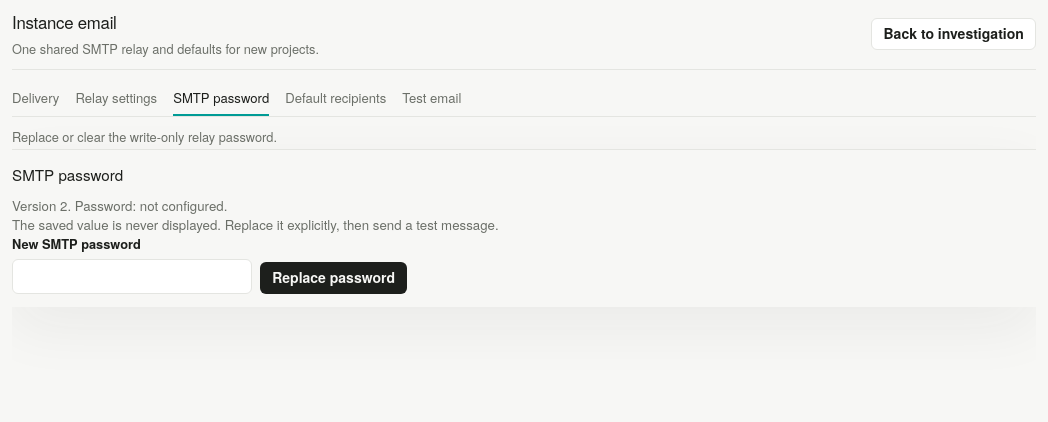
Test case: email and maintenance administration › replaces a password explicitly and reports test SMTP acceptance without revealing the secret
Check: the heading "SMTP password" is shown, box [12,164,123,185]
Check: the text "Password: not configured." is shown, box [12,196,227,215]
Step 1. Type "private-smtp-password" into the password field labelled "New SMTP password" → [132, 276], box [12,259,252,294]
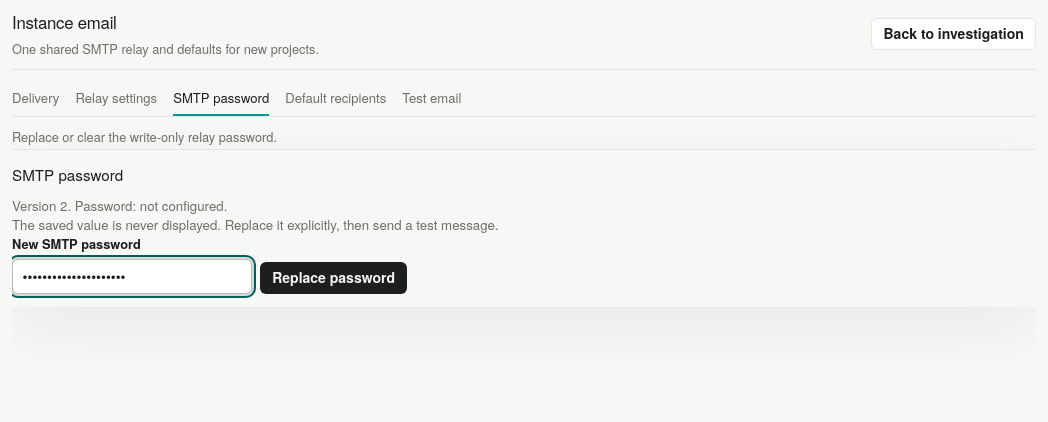
Step 2. Click the button "Replace password" → [334, 278], box [260,262,407,294]
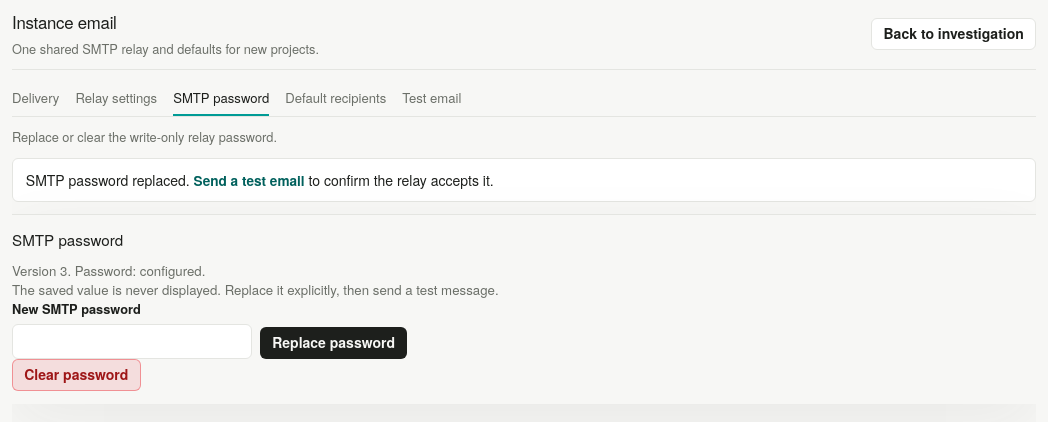
Check: the password field labelled "New SMTP password" is empty, box [12,324,252,359]
Check: the text "Password: configured." is shown, box [12,260,205,280]
Check: the text "SMTP password replaced. Send a test email to confirm the relay accepts it." is shown, box [12,158,1036,202]
Step 3. Click the link "Send a test email" → [249, 180], box [194,171,305,190]
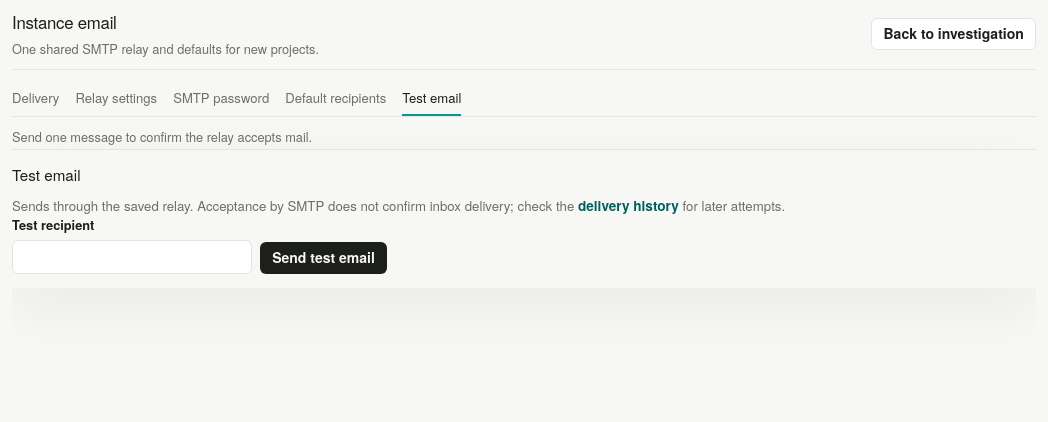
Check: the heading "Test email" is shown, box [12,164,80,185]
Check: the text "SMTP password replaced." is gone
Step 4. Type "ops@example.test" into the field labelled "Test recipient" → [132, 257], box [12,240,252,274]
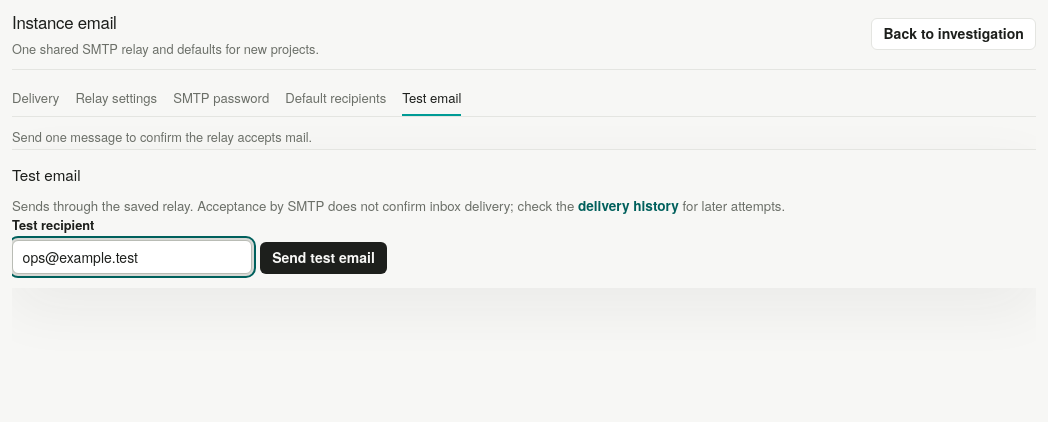
Step 5. Click the button "Send test email" → [324, 258], box [260,242,387,274]
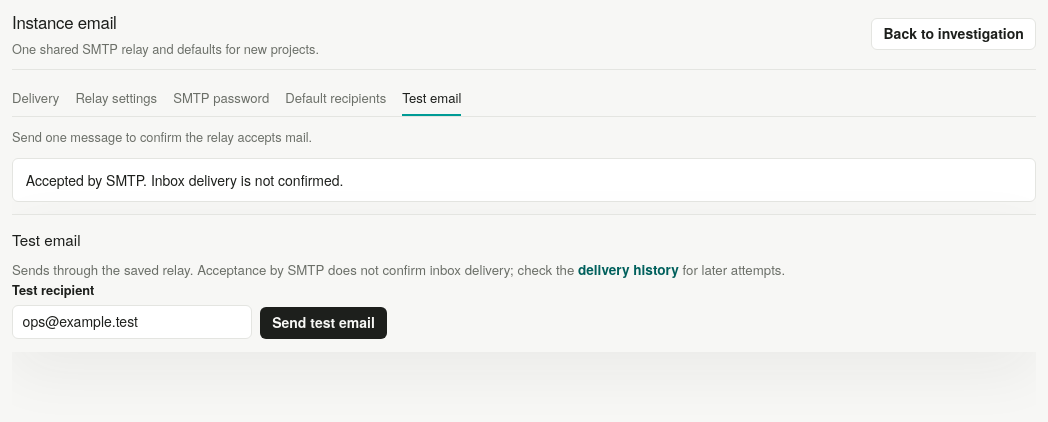
Check: the text "Accepted by SMTP. Inbox delivery is not confirmed." is shown, box [12,158,1036,202]
